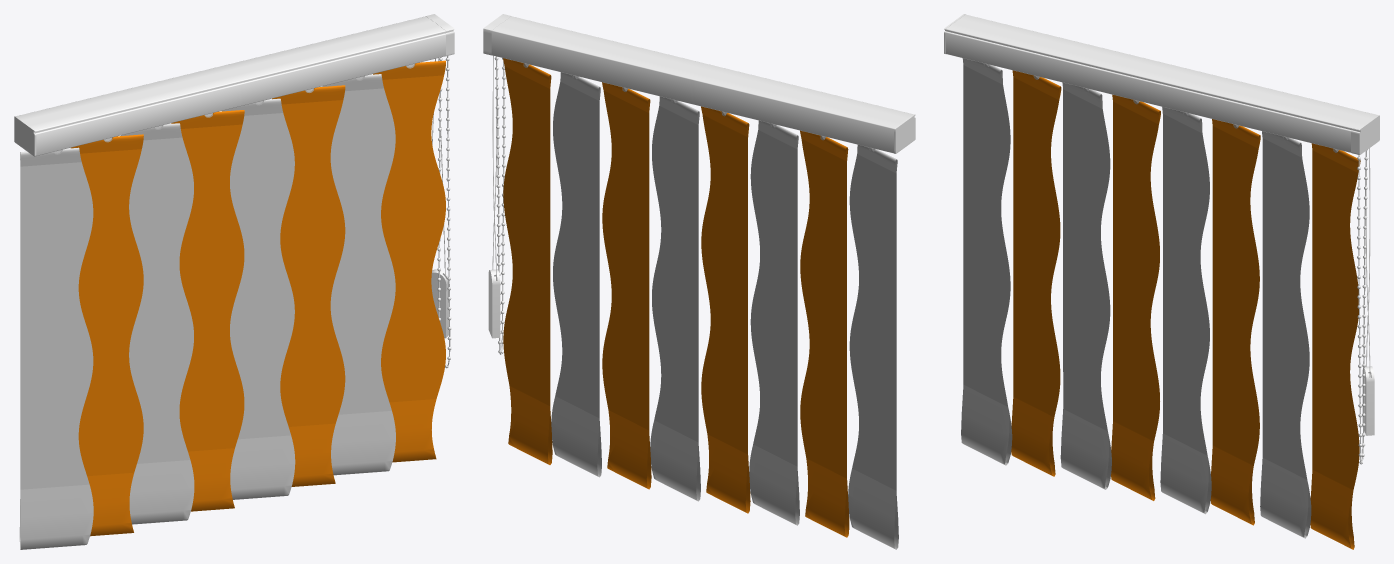
Rendered from Wavelines (gegenlaeufig).glb.
3 views of the same model, side by side, from view 1: azimuth 30°, elevation 25°; view 2: azimuth 150°, elevation 25°; view 3: azimuth 330°, elevation 25° (orthographic).
Visible parts, largest first — view 1: Plane.002, Plane.003, Plane.005, Plane.007, Plane.001, Plane.006, Plane.004, Plane.008, Cube, Cylinder.003, Sphere.001, Cube.001 (+1 smaller); view 2: Cube, Plane.002, Plane.003, Plane.005, Plane.007, Plane.006, Plane.008, Plane.001, Plane.004, Cylinder.003, Sphere.001, BezierCurve.001 (+2 smaller); view 3: Cube, Plane.007, Plane.002, Plane.003, Plane.005, Plane.006, Plane.008, Plane.001, Plane.004, Cube.005, Sphere.001, BezierCurve.001 (+2 smaller).
Part boxes in pixels (x1=…): Plane.002: x1=19, y1=147, x2=93, y2=549; Plane.003: x1=121, y1=123, x2=194, y2=524; Plane.005: x1=221, y1=98, x2=295, y2=499; Plane.007: x1=322, y1=74, x2=395, y2=475; Plane.001: x1=71, y1=134, x2=143, y2=536; Plane.006: x1=272, y1=85, x2=345, y2=486; Plane.004: x1=171, y1=110, x2=244, y2=511; Plane.008: x1=373, y1=60, x2=445, y2=462; Cube: x1=17, y1=16, x2=445, y2=155; Cylinder.003: x1=431, y1=269, x2=448, y2=338; Sphere.001: x1=437, y1=57, x2=451, y2=368; Cube.001: x1=14, y1=116, x2=36, y2=156; Cube: x1=491, y1=16, x2=912, y2=153; Plane.002: x1=848, y1=145, x2=898, y2=549; Plane.003: x1=749, y1=120, x2=799, y2=525; Plane.005: x1=650, y1=96, x2=700, y2=501; Plane.007: x1=551, y1=72, x2=601, y2=477; Plane.006: x1=602, y1=82, x2=651, y2=489; Plane.008: x1=503, y1=58, x2=552, y2=464; Plane.001: x1=800, y1=130, x2=849, y2=537; Plane.004: x1=701, y1=106, x2=750, y2=513; Cylinder.003: x1=488, y1=269, x2=500, y2=338; Sphere.001: x1=494, y1=57, x2=505, y2=353; BezierCurve.001: x1=496, y1=60, x2=504, y2=354; Cube: x1=946, y1=14, x2=1370, y2=152; Plane.007: x1=1260, y1=131, x2=1311, y2=538; Plane.002: x1=961, y1=58, x2=1012, y2=465; Plane.003: x1=1060, y1=82, x2=1111, y2=489; Plane.005: x1=1160, y1=107, x2=1211, y2=514; Plane.006: x1=1210, y1=119, x2=1260, y2=525; Plane.008: x1=1310, y1=143, x2=1360, y2=549; Plane.001: x1=1011, y1=70, x2=1061, y2=476; Plane.004: x1=1111, y1=94, x2=1160, y2=500; Cube.005: x1=1351, y1=113, x2=1379, y2=154; Sphere.001: x1=1357, y1=149, x2=1368, y2=464; BezierCurve.001: x1=1358, y1=150, x2=1366, y2=462.
Size of the model in its own units: 1.31 by 1.27 by 0.1093.
4 materials, 1 textured.
